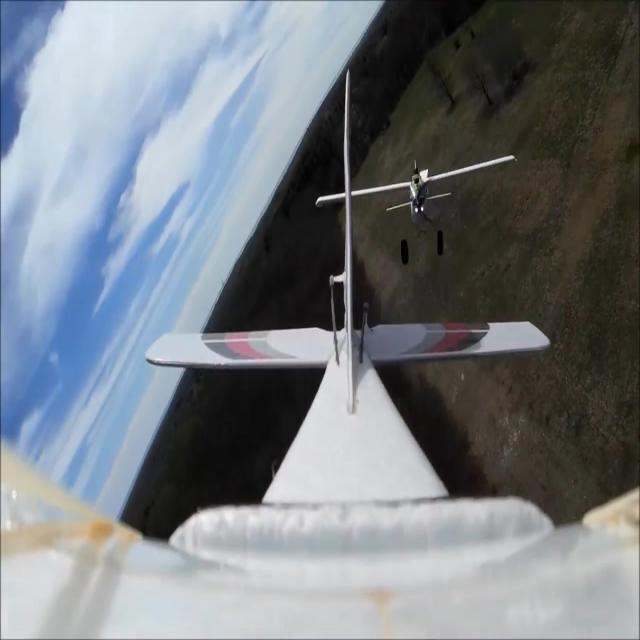iha: (319, 185, 514, 230)
